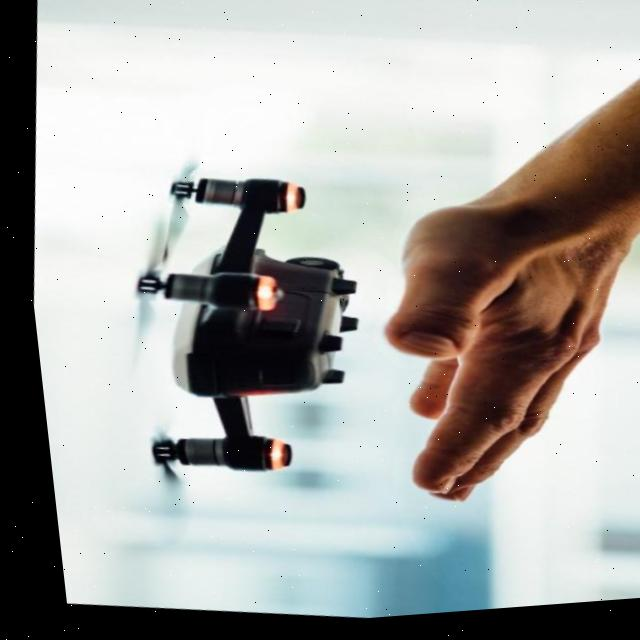drones: (47, 108, 440, 550)
